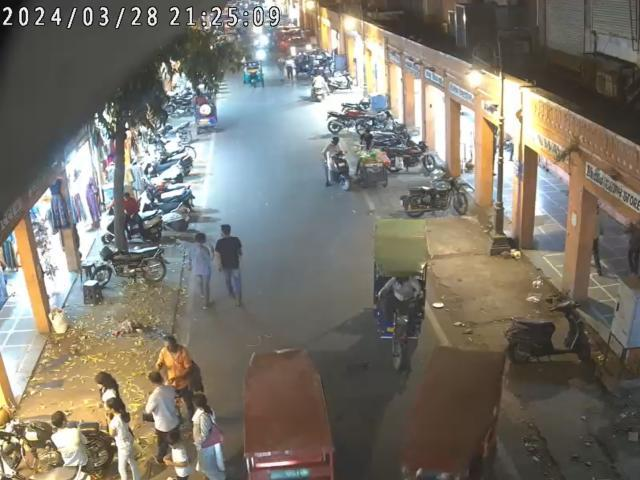auto: (244, 341, 340, 480), (370, 214, 428, 366)
motorbike: (6, 416, 117, 470), (94, 243, 168, 286), (400, 170, 468, 216)
person: (153, 338, 212, 416), (106, 392, 146, 480), (146, 364, 180, 458), (188, 393, 218, 480), (214, 224, 244, 308), (187, 230, 210, 310)
scooty: (503, 294, 591, 362), (139, 192, 191, 236)
scooty-rider: (326, 136, 354, 189)
